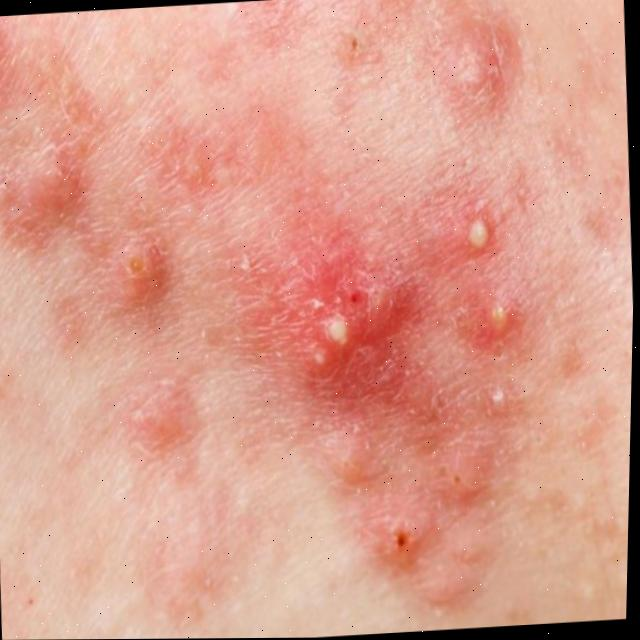Acne: (0, 47, 639, 621)
